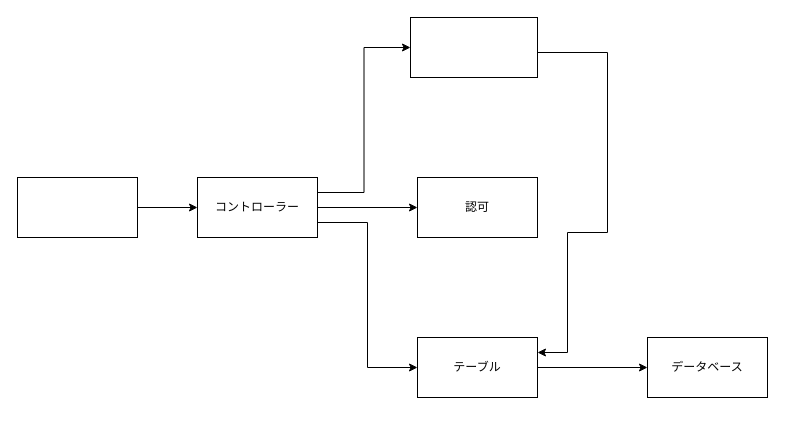
The diagram is 785 pixels wide and 423 high, and some of its shapes have lost their labels. The shapes that lost their labels are listed below. From the top down, each one's box as (x1, y1, x2, y2) in pixels, then its label:
(410, 16, 538, 78): ビュー
(16, 176, 138, 238): ルーティング
